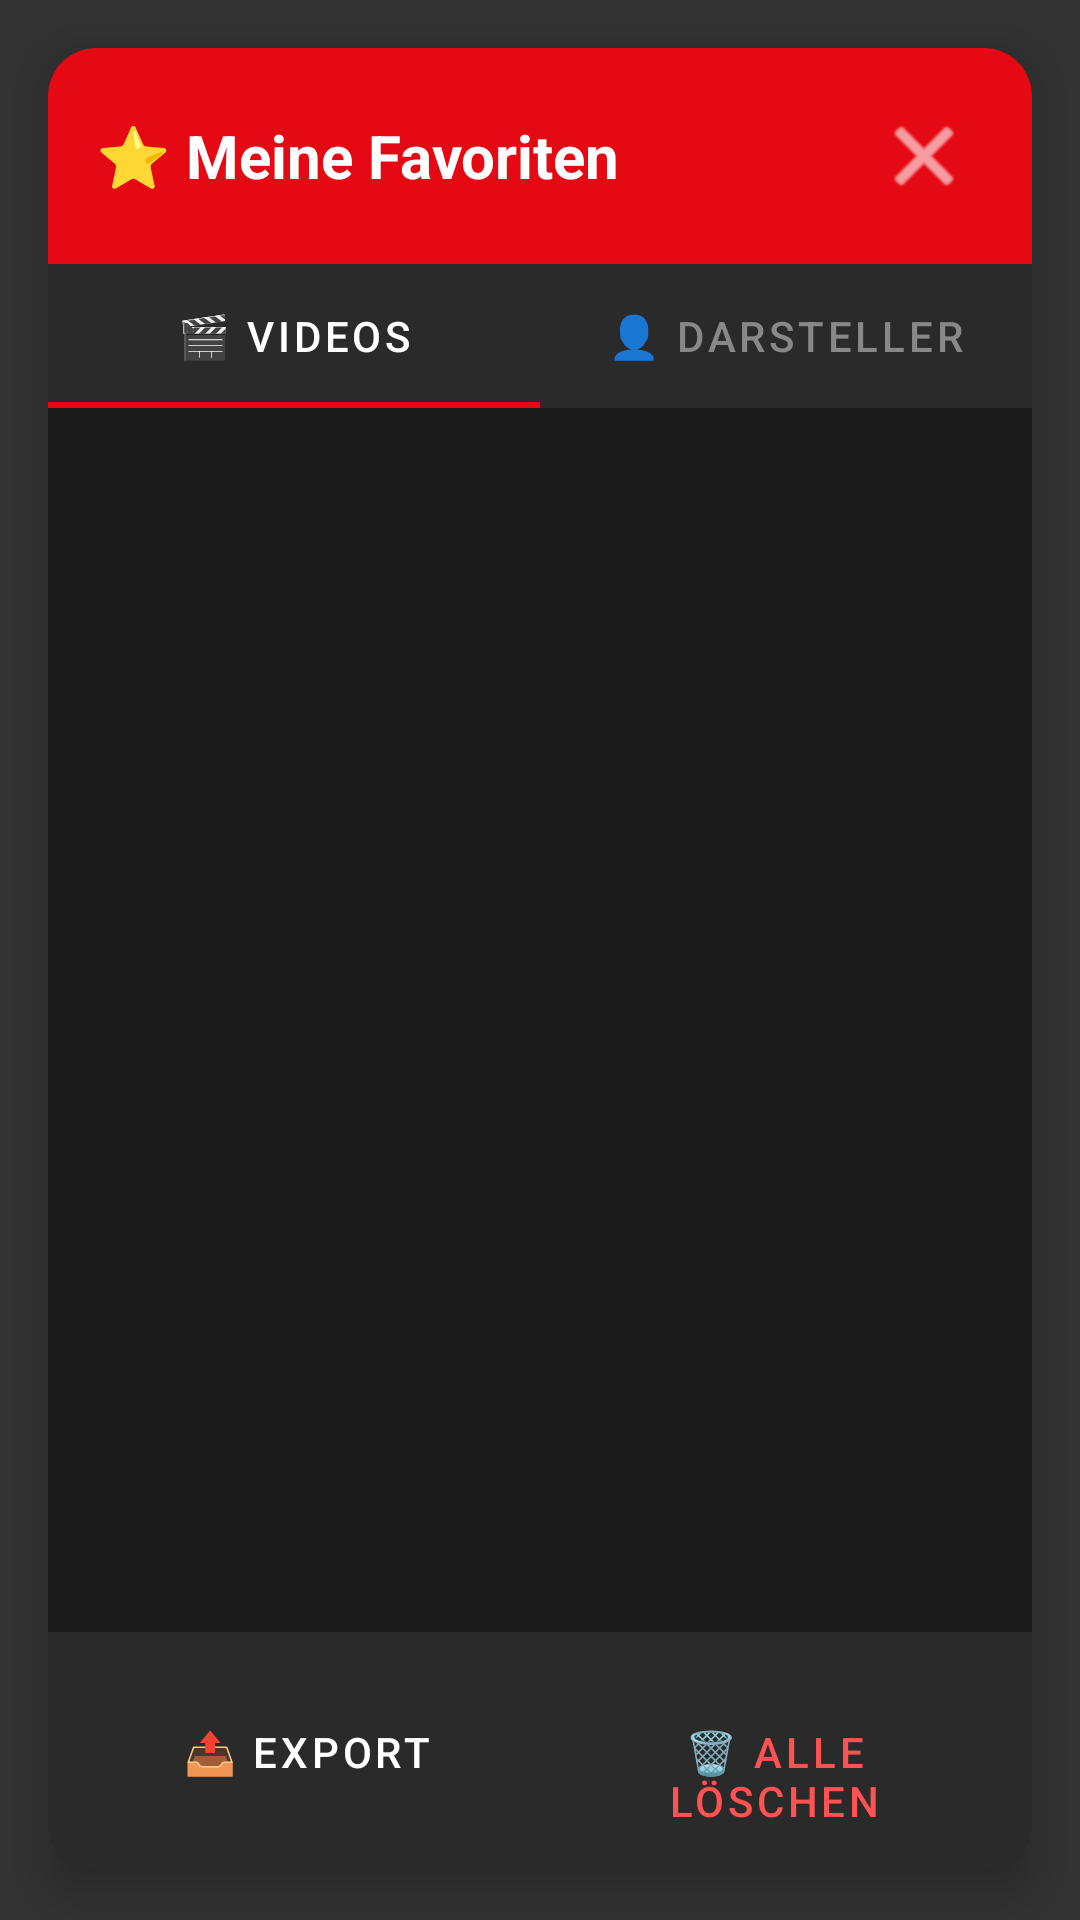

Named icons in this screenshot (1080px x 1920px) and their bounding boxes, (x1, y1, x2, y2):
Schließen: (894, 126, 954, 186)
